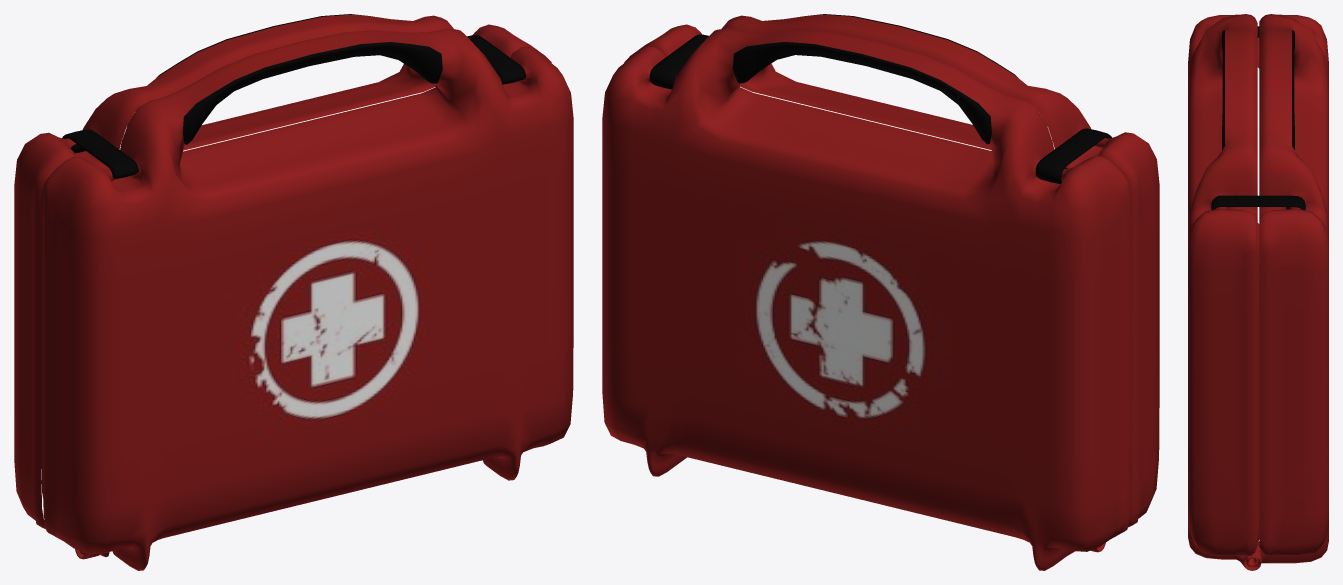
File: Medkit.glb
The picture shows the model from 3 angles, left to right: view 1: azimuth 30°, elevation 25°; view 2: azimuth 150°, elevation 25°; view 3: azimuth 270°, elevation 25°; orthographic projection. The views are drawn at different scales.
Parts seen in each view (by area): view 1: Object_2; view 2: Object_2; view 3: Object_2.
Part boxes in pixels (x1,y1,x2,y2): Object_2: (14, 14, 573, 570); Object_2: (602, 14, 1159, 570); Object_2: (1188, 14, 1328, 570).
Size of the model in its own units: 81.75 by 71.9 by 21.95.
Materials: 1 (1 with a texture image).
